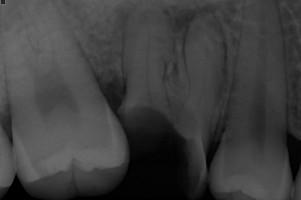Furcation Involvement: (163, 0, 239, 36), (113, 0, 140, 43)
